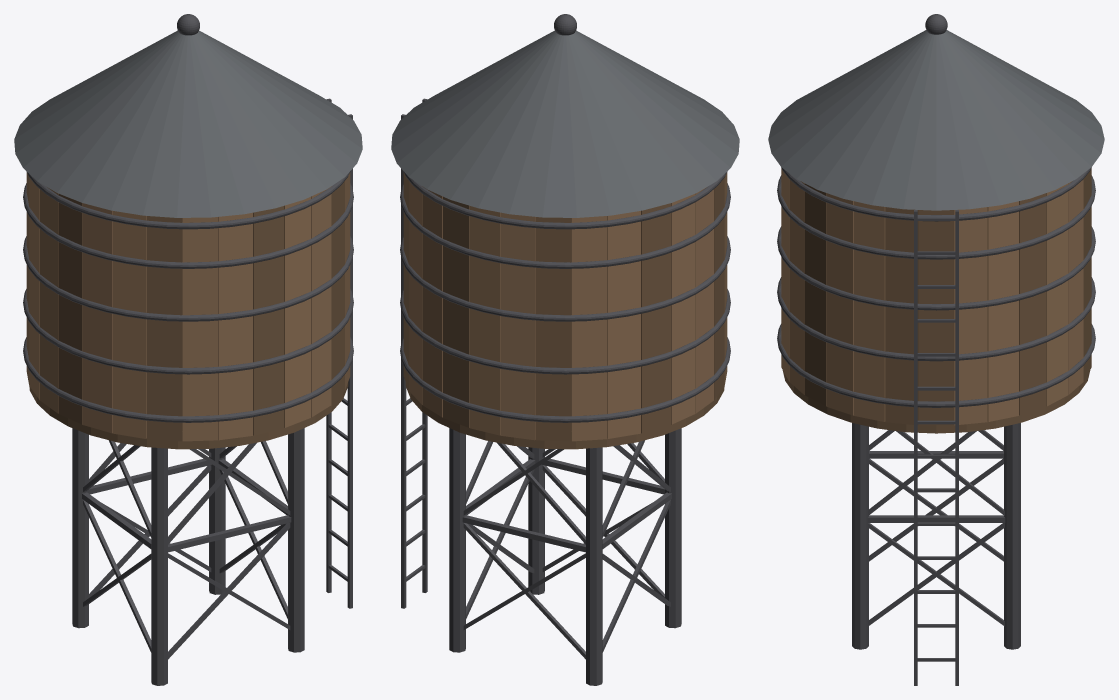
Rendered from watertower.glb.
3 renders of one model, left to right at view 1: azimuth 30°, elevation 25°; view 2: azimuth 150°, elevation 25°; view 3: azimuth 270°, elevation 25°, orthographic. The views are drawn at different scales.
Visible parts, largest first — view 1: WaterTowerMesh; view 2: WaterTowerMesh; view 3: WaterTowerMesh.
Boxes of the visible parts, box(x1,y1,x2,y2) form: WaterTowerMesh: box(14, 14, 362, 685); WaterTowerMesh: box(391, 14, 739, 685); WaterTowerMesh: box(768, 14, 1104, 685).
Bounding box in the file's own units: 3.62 × 7.07 × 3.6.
